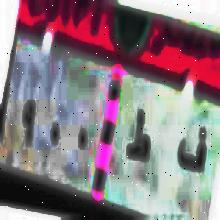0: (73, 118, 94, 168), (45, 112, 65, 152)
9: (17, 90, 38, 156)
Taa: (122, 104, 152, 178)
faa: (174, 119, 208, 181)
